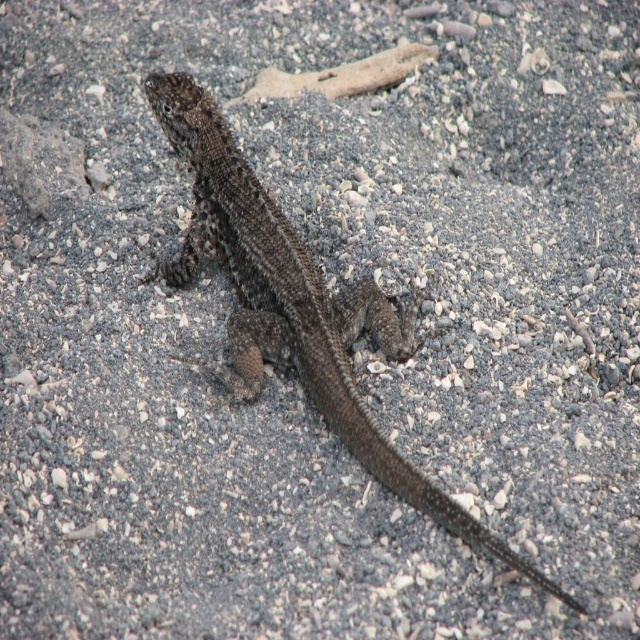Lizard: (140, 70, 587, 618)
